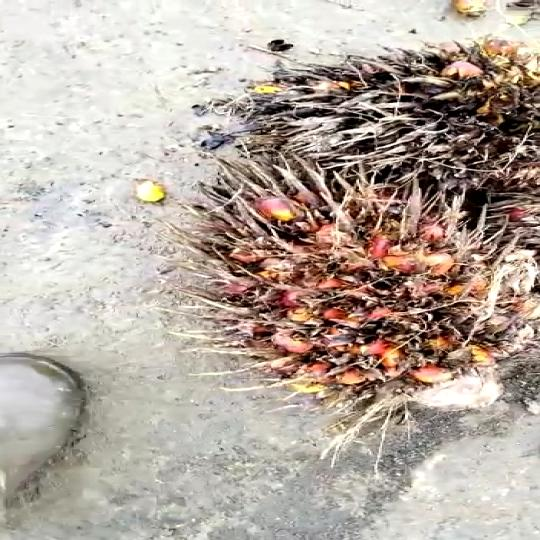terlalu masak: (161, 146, 540, 420), (208, 47, 540, 196)
